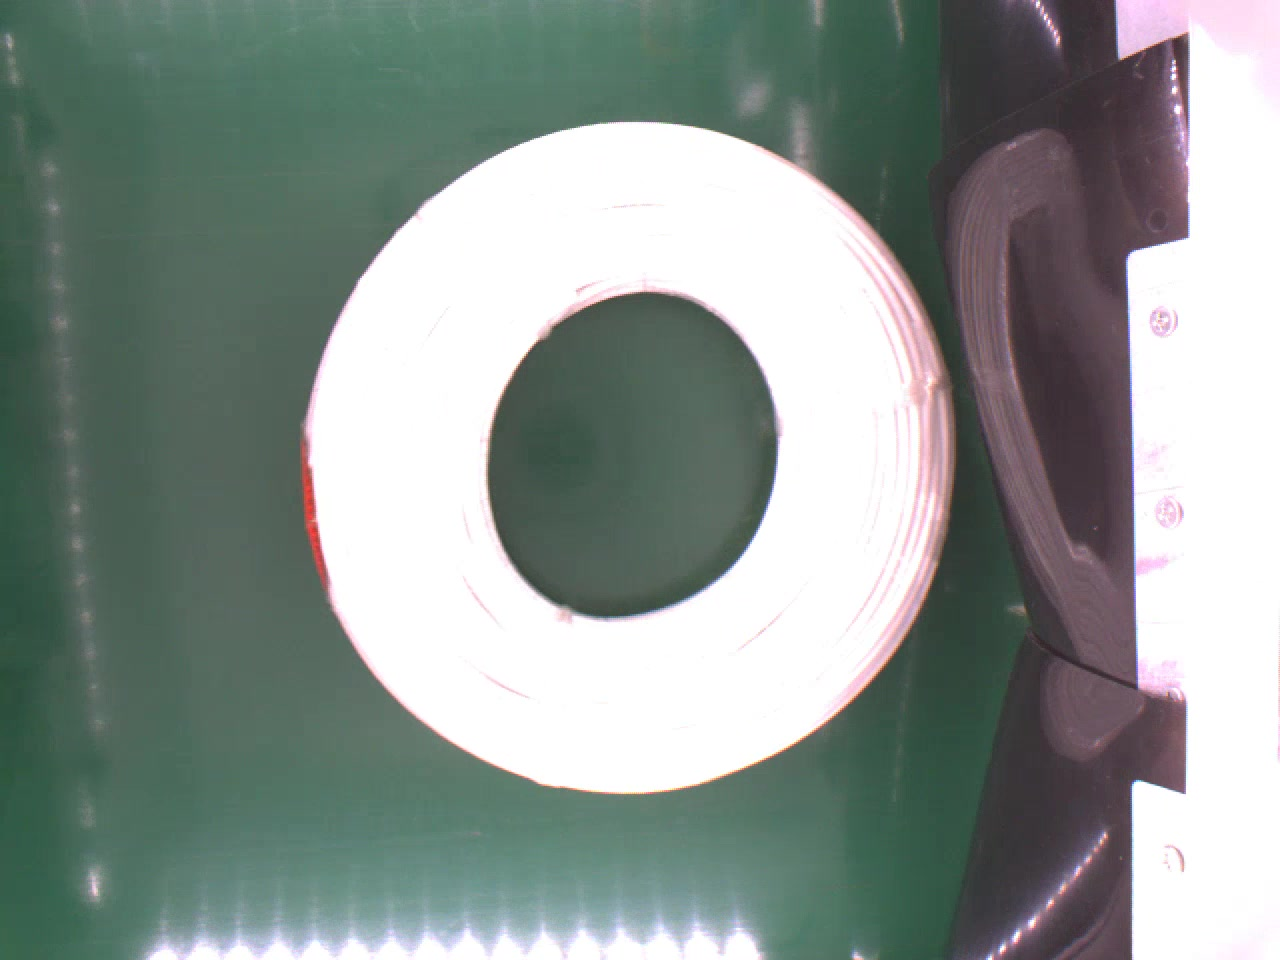white: (298, 114, 956, 791)
